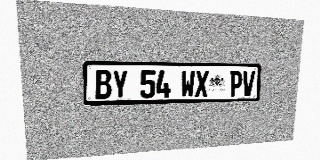4: (156, 70, 171, 98)
5: (140, 70, 156, 98)
B: (95, 70, 112, 99)
P: (229, 71, 243, 96)
V: (242, 71, 255, 96)
W: (181, 70, 195, 97)
X: (195, 70, 209, 97)
Y: (112, 70, 128, 99)
